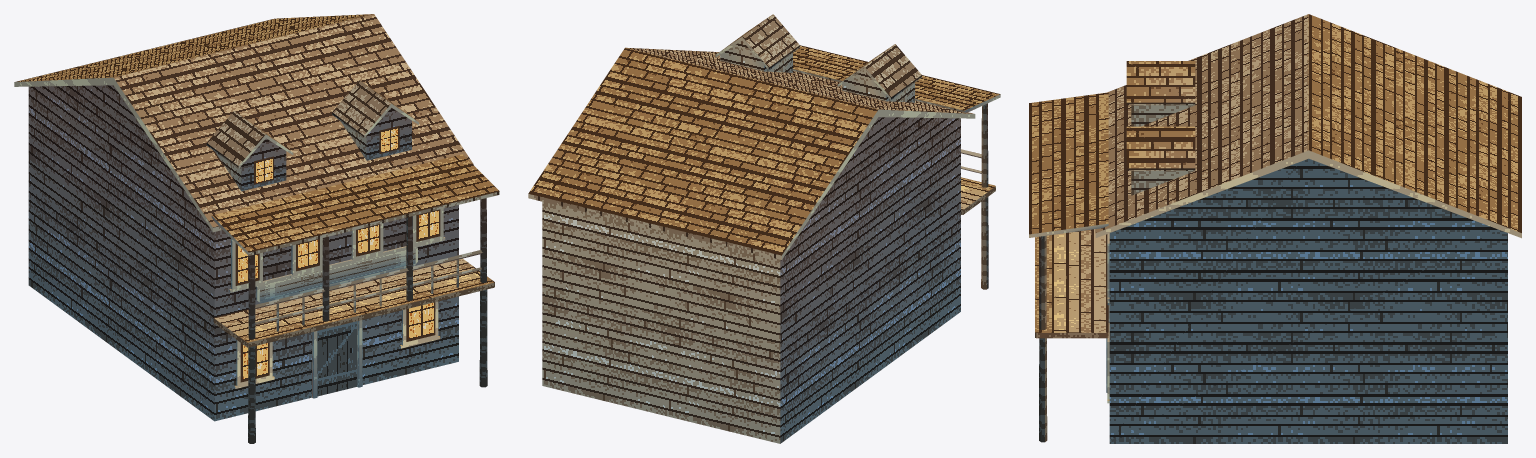
Rendered from wtown.hotel.glb.
3 renders of one model, left to right at view 1: azimuth 30°, elevation 25°; view 2: azimuth 150°, elevation 25°; view 3: azimuth 270°, elevation 25°, orthographic. The views are drawn at different scales.
Visible parts, largest first — view 1: kit_body, kit_roof, kit_veranda, kit_veranda_roof, kit_card_panes, kit_dormer_roofs, kit_dormers, kit_windows, kit_trim; view 2: kit_body, kit_roof, kit_dormer_roofs, kit_veranda_roof, kit_veranda, kit_dormers; view 3: kit_body, kit_roof, kit_veranda_roof, kit_veranda, kit_dormer_roofs, kit_dormers.
Part boxes in pixels (x1,y1,x2,y2): kit_body: (28, 85, 458, 421); kit_roof: (14, 14, 473, 232); kit_veranda: (214, 198, 494, 443); kit_veranda_roof: (211, 154, 499, 255); kit_card_panes: (235, 126, 440, 396); kit_dormer_roofs: (206, 80, 418, 168); kit_dormers: (215, 108, 411, 191); kit_windows: (229, 208, 445, 388); kit_trim: (256, 246, 417, 398); kit_body: (542, 117, 960, 443); kit_roof: (528, 47, 975, 259); kit_dormer_roofs: (715, 14, 921, 99); kit_veranda_roof: (793, 45, 1000, 112); kit_veranda: (961, 103, 995, 289); kit_dormers: (720, 41, 914, 102); kit_body: (1109, 158, 1507, 443); kit_roof: (1095, 14, 1521, 238); kit_veranda_roof: (1029, 92, 1108, 237); kit_veranda: (1035, 229, 1108, 442); kit_dormer_roofs: (1126, 61, 1195, 170); kit_dormers: (1131, 105, 1194, 195).
Size of the model in its own units: 8.1 by 8.25 by 12.37.
Materials: 10 (10 with a texture image).
